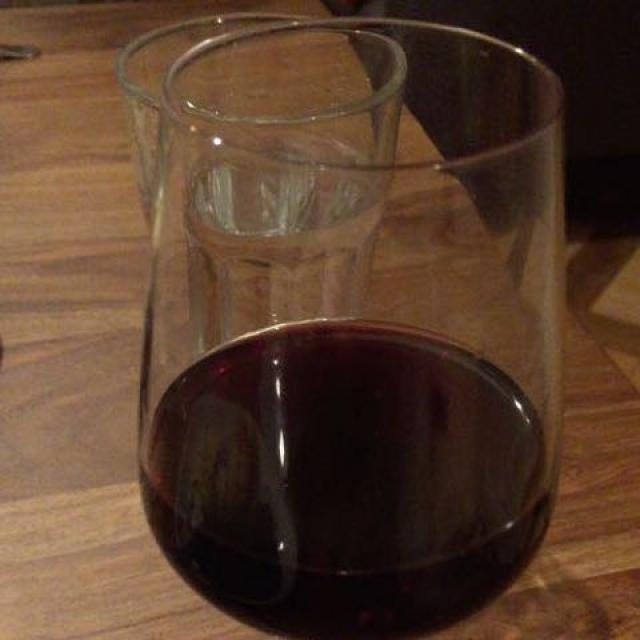drink: (153, 310, 535, 590)
